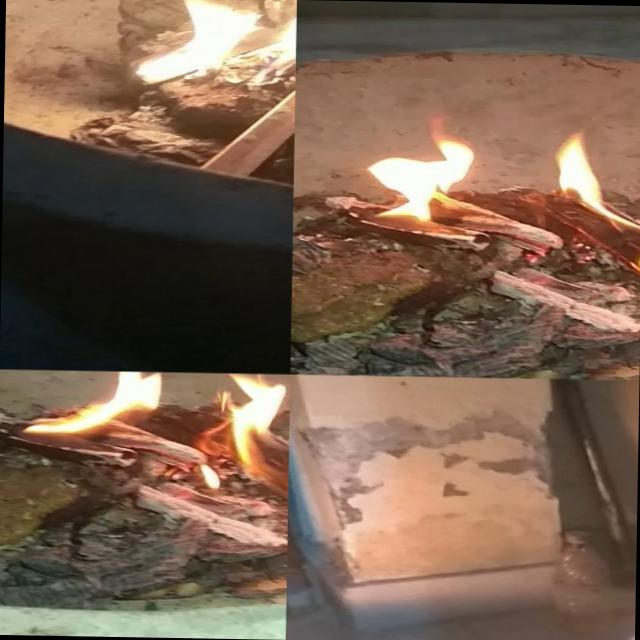fire: (353, 124, 640, 344), (4, 369, 290, 560), (69, 0, 296, 92), (534, 551, 636, 640)
